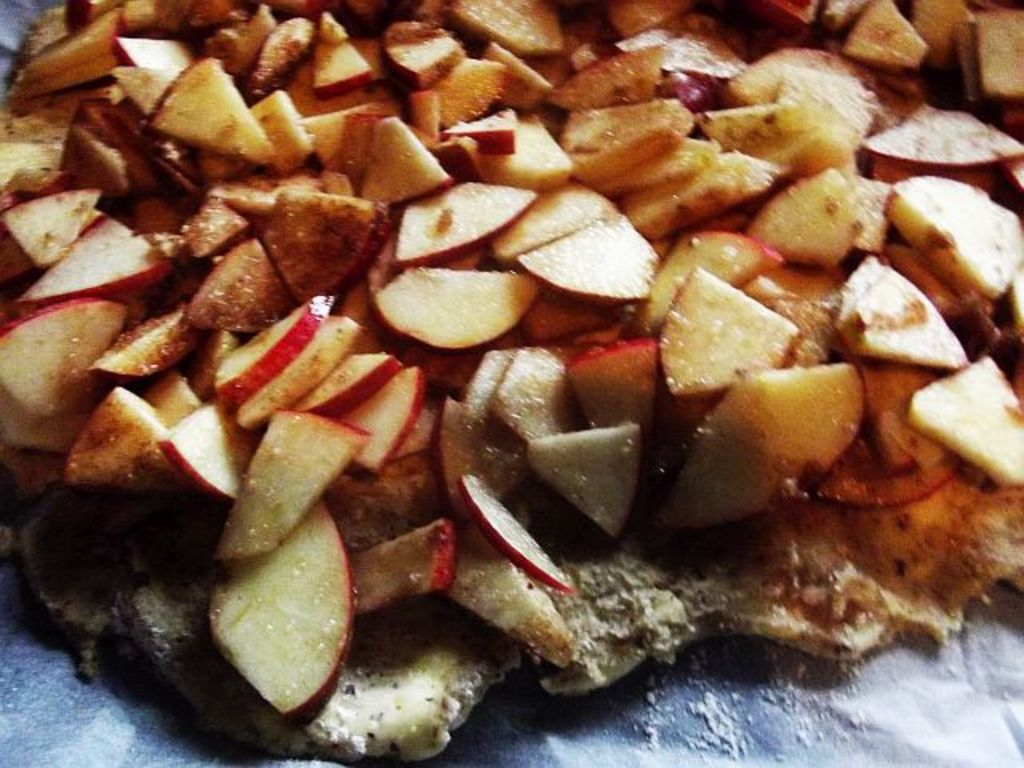Apple: (0, 0, 1022, 728), (659, 249, 804, 416)
